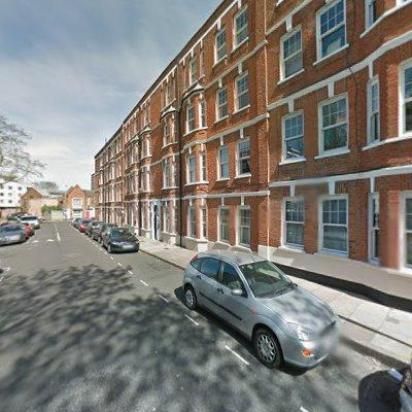stationary-car-onstreet: (181, 246, 343, 370), (101, 226, 141, 254), (0, 223, 28, 247), (400, 360, 412, 412), (96, 223, 116, 245), (85, 220, 103, 238), (75, 217, 91, 230)
stationary-light-truck-onstreet: (19, 214, 40, 230)
